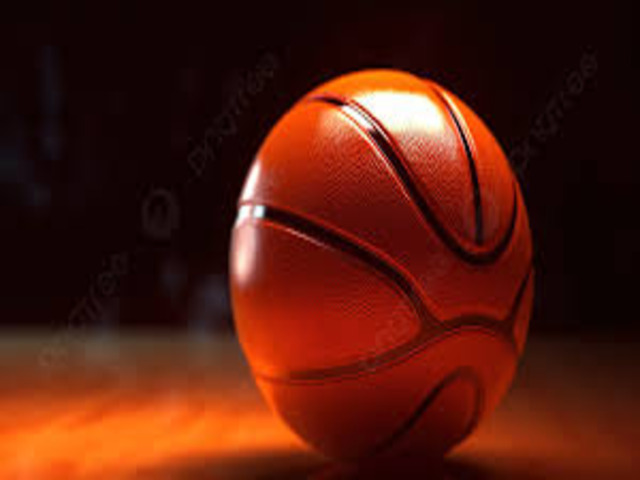Bola: (225, 64, 537, 471)
